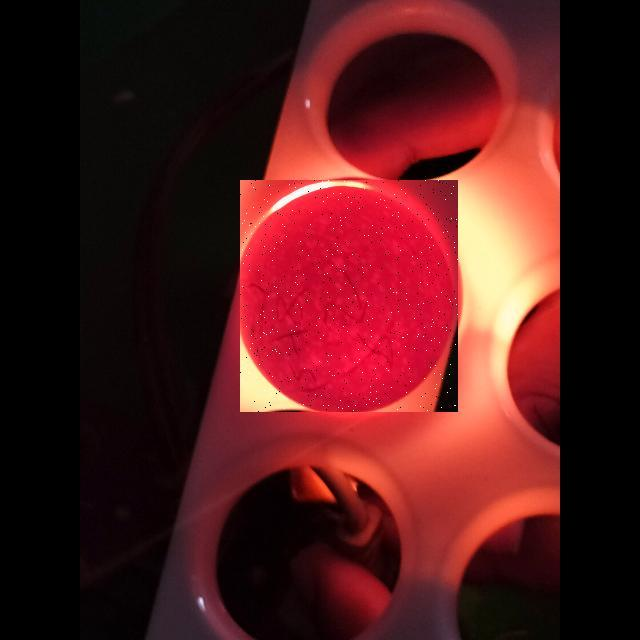Infertile: (240, 180, 458, 412)
